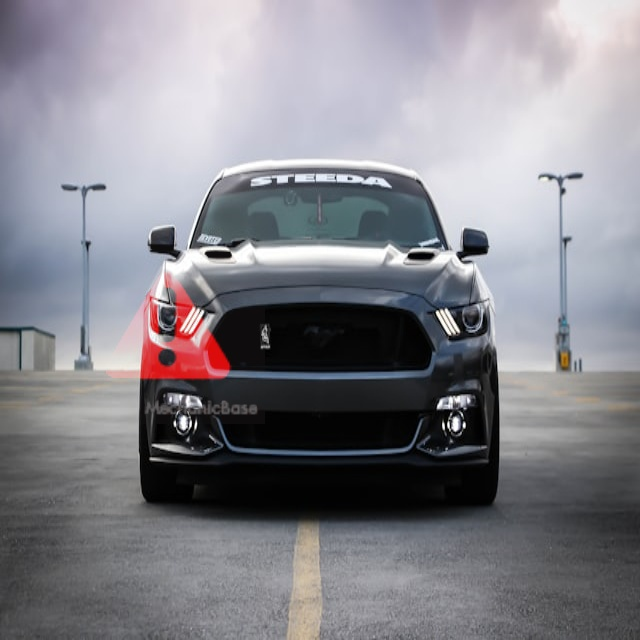symbol: (68, 227, 265, 424)
